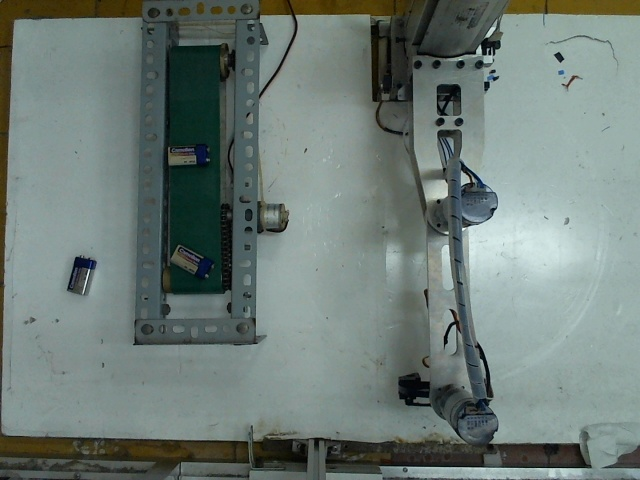battery: (168, 242, 216, 276), (162, 137, 214, 166), (64, 254, 97, 293)
